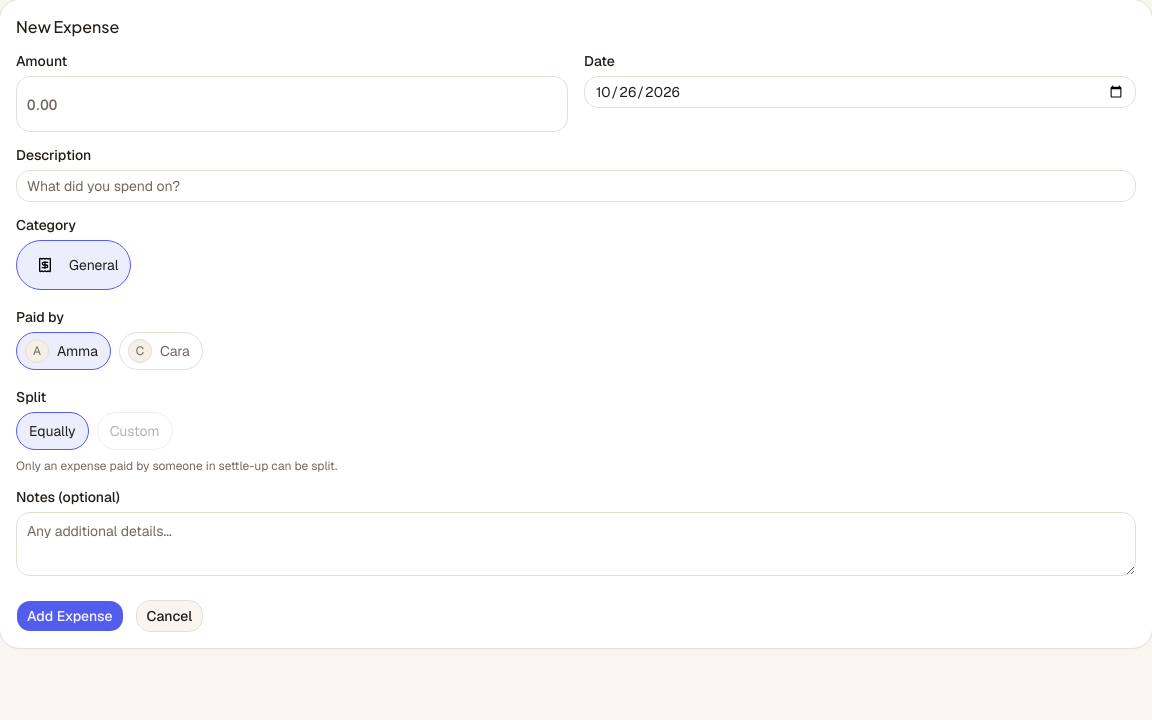
Test: ExpenseForm Split › explains and blocks Custom when the payer is not in settle-up
Expected: the button "Custom" is disabled, [97,412,172,450]
Expected: the text "Only an expense paid by someone in settle-up can be split." is shown, [16,458,337,474]
# Picking a payer who is in settle-up lifts the block.
Click the button "C Cara". click: (161, 351)
box: [119,332,203,370]
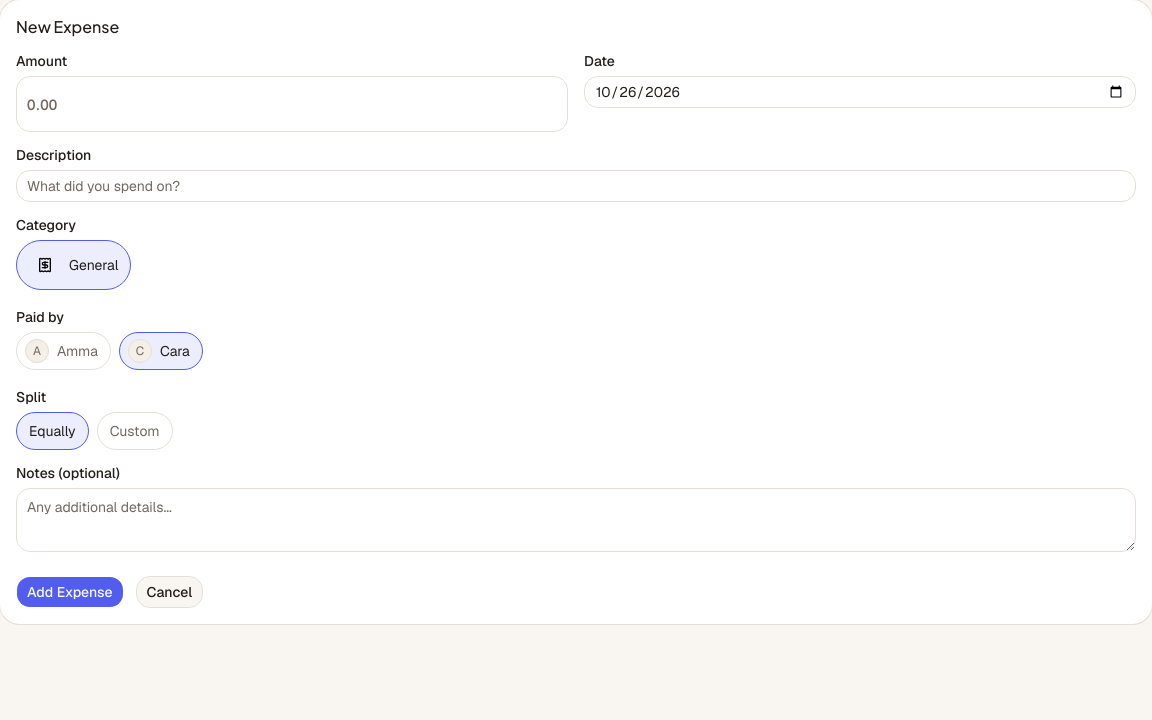
Result: the button "Custom" is enabled at [97,412,172,450]
